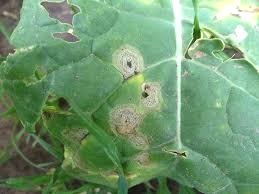Bok-Choy-Diseased: (48, 12, 259, 167)
